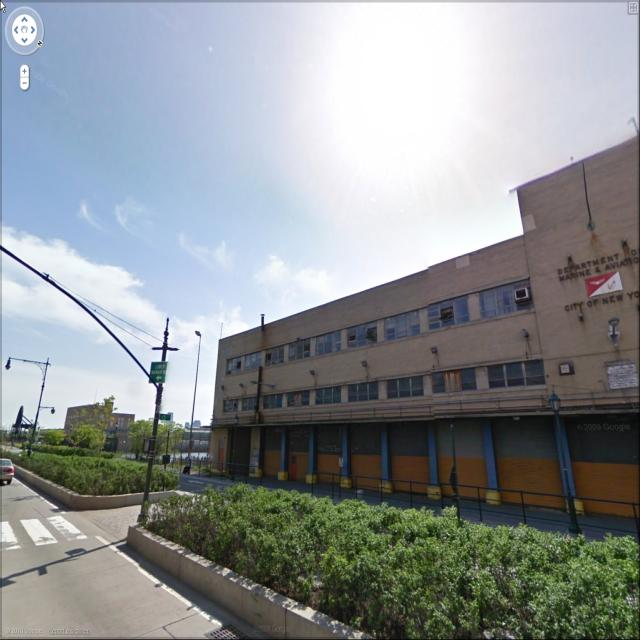b_1: (200, 113, 640, 476)
